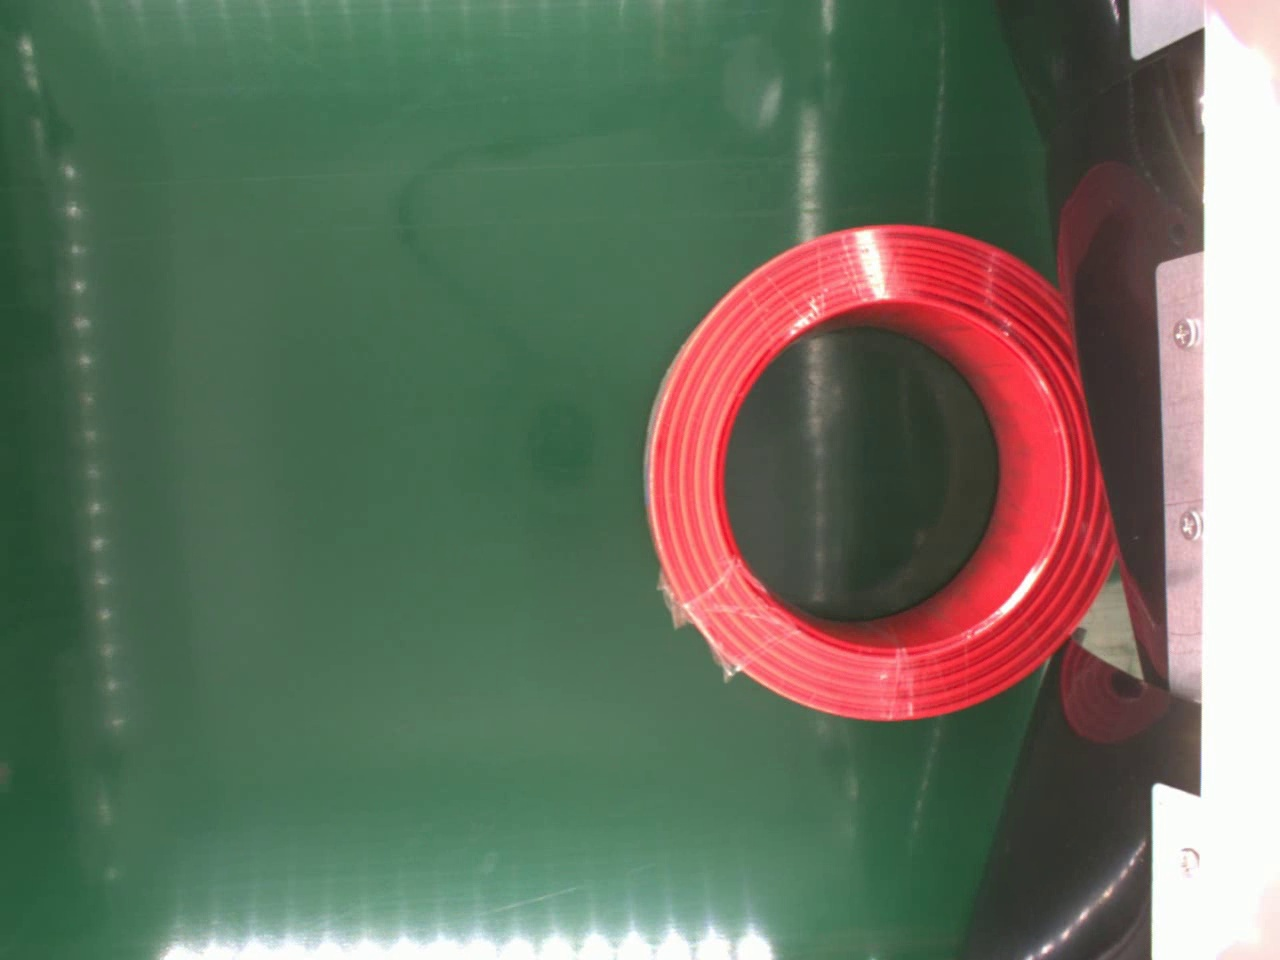red: (637, 222, 1118, 721)
